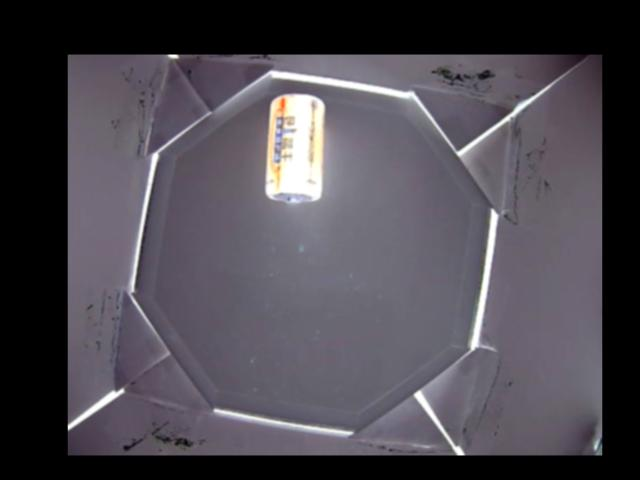Battery: (265, 93, 325, 204)
